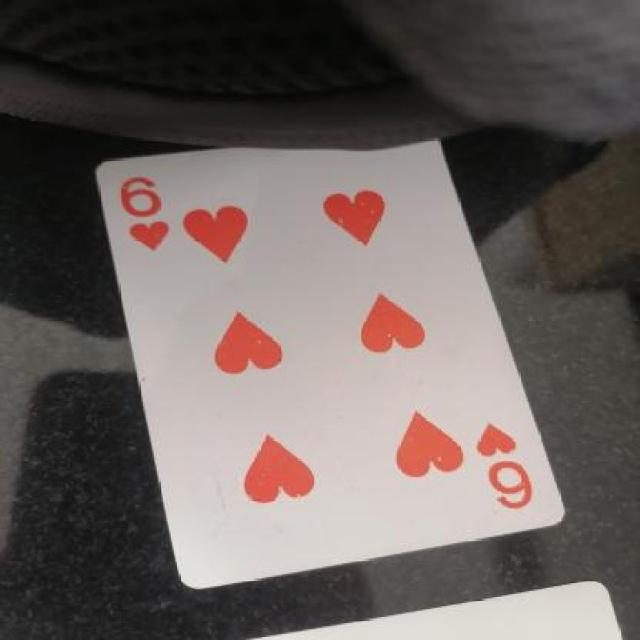6H: (456, 414, 556, 514), (122, 168, 178, 272)
